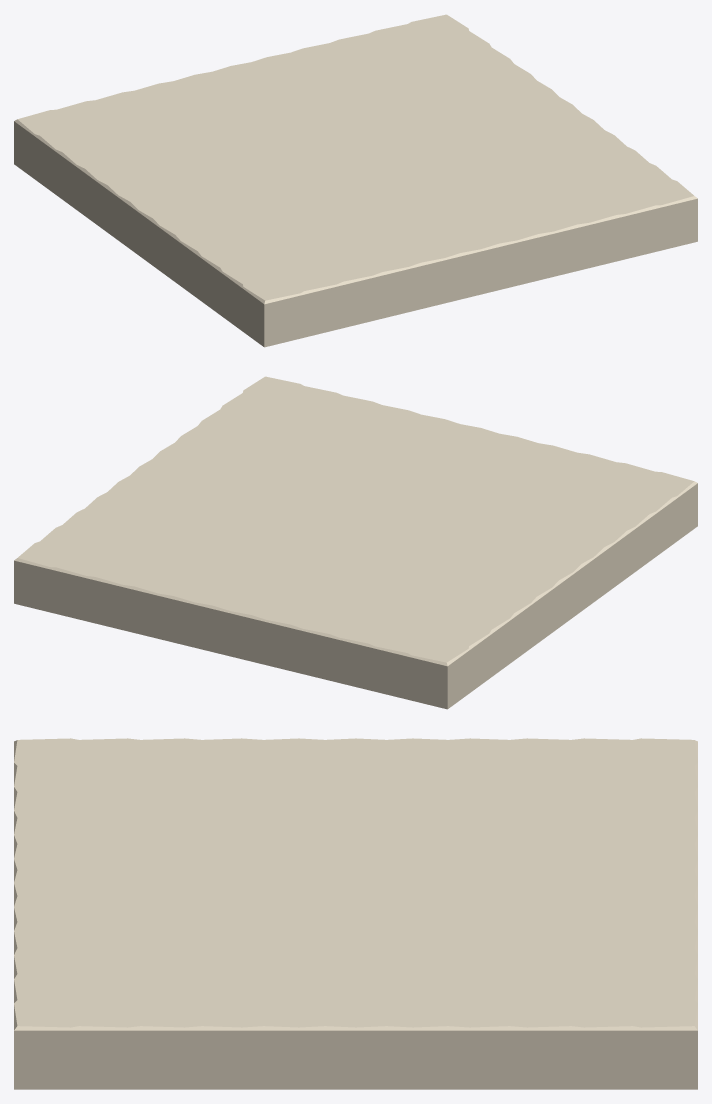
File: mahsulot.glb
3 renders of one model, top to bottom at view 1: azimuth 30°, elevation 25°; view 2: azimuth 150°, elevation 25°; view 3: azimuth 270°, elevation 25°, orthographic. The views are drawn at different scales.
Visible parts, largest first — view 1: mahsulot_A; view 2: mahsulot_A; view 3: mahsulot_A.
Boxes of the visible parts, <box> form: mahsulot_A: <box>14,14,697,347</box>; mahsulot_A: <box>14,376,697,709</box>; mahsulot_A: <box>14,738,697,1089</box>.
Size of the model in its own units: 0.3 by 0.03 by 0.3.
